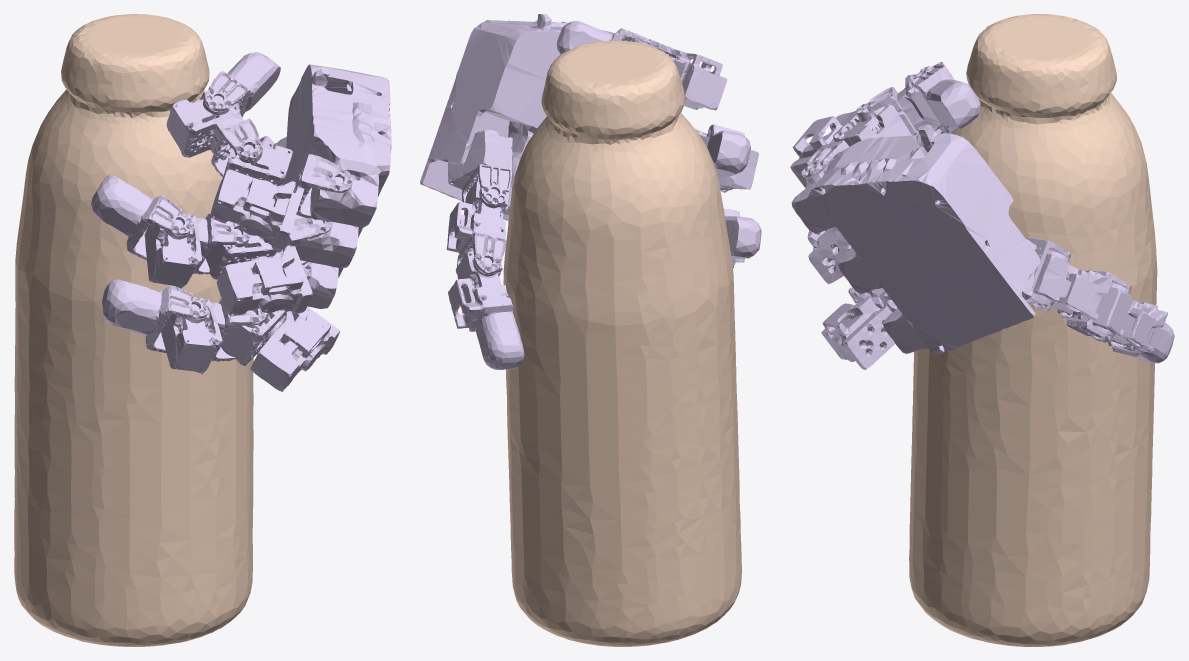
3 renders of one model, left to right at view 1: azimuth 30°, elevation 25°; view 2: azimuth 150°, elevation 25°; view 3: azimuth 270°, elevation 25°, orthographic. The views are drawn at different scales.
Parts seen in each view (by area): view 1: world, LEAP_hand; view 2: world, LEAP_hand; view 3: world, LEAP_hand.
Boxes of the visible parts, left/top/right/bottom form: world: left=14, top=14, right=253, bottom=646; LEAP_hand: left=91, top=52, right=391, bottom=391; world: left=503, top=40, right=741, bottom=646; LEAP_hand: left=420, top=14, right=761, bottom=369; world: left=909, top=14, right=1157, bottom=646; LEAP_hand: left=790, top=62, right=1174, bottom=369.
Bounding box in the file's own units: 0.2084 × 0.3601 × 0.2178.
